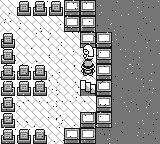main: (81, 60, 95, 76)
no-caminable: (96, 0, 160, 143), (65, 0, 112, 143), (1, 33, 49, 143), (16, 0, 64, 16)
npc: (82, 45, 94, 60)
puerta: (80, 79, 96, 96)
